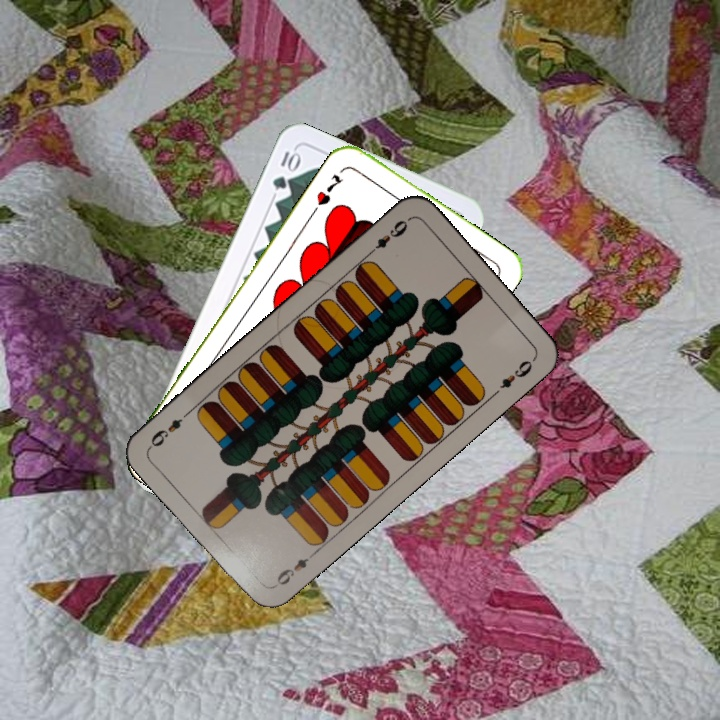E9: (269, 547, 319, 591), (364, 214, 413, 258)
G10: (268, 147, 302, 192)
H7: (312, 170, 345, 208)
